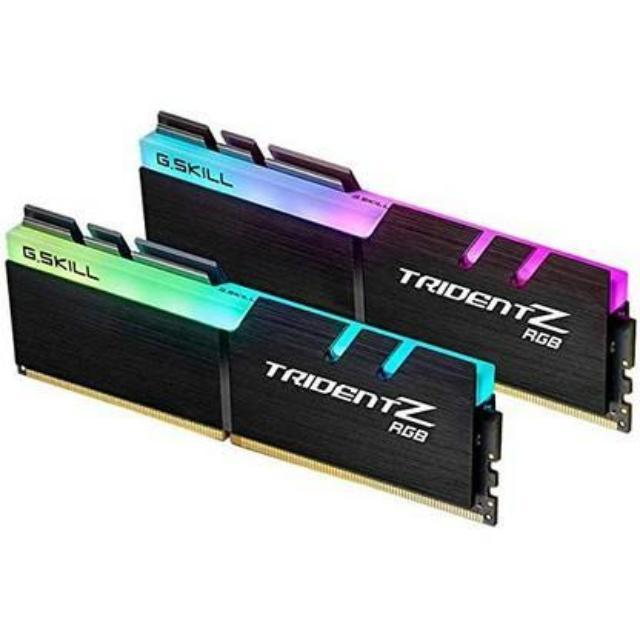RAM: (0, 86, 640, 536)
